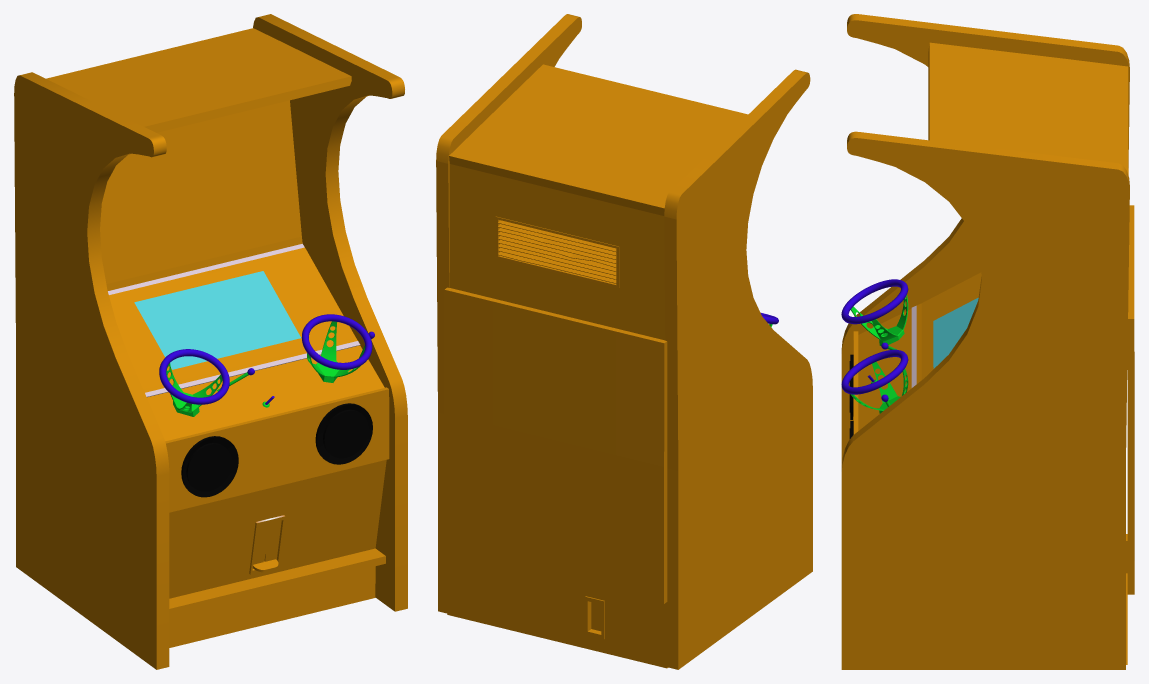
File: DeathRaceOPT.fbx
3 renders of one model, left to right at view 1: azimuth 30°, elevation 25°; view 2: azimuth 150°, elevation 25°; view 3: azimuth 270°, elevation 25°, orthographic. The views are drawn at different scales.
Parts seen in each view (by area): view 1: Cube.003, Cube.001; view 2: Cube.003, Cube.001; view 3: Cube.001, Cube.003.
Part boxes in pixels (x1=…): Cube.003: x1=46, y1=28, x2=389, y2=647; Cube.001: x1=14, y1=14, x2=407, y2=669; Cube.003: x1=444, y1=64, x2=747, y2=668; Cube.001: x1=436, y1=14, x2=812, y2=669; Cube.001: x1=841, y1=14, x2=1129, y2=669; Cube.003: x1=849, y1=42, x2=1134, y2=664.
Size of the model in its own units: 90.83 by 182 by 90.67.
